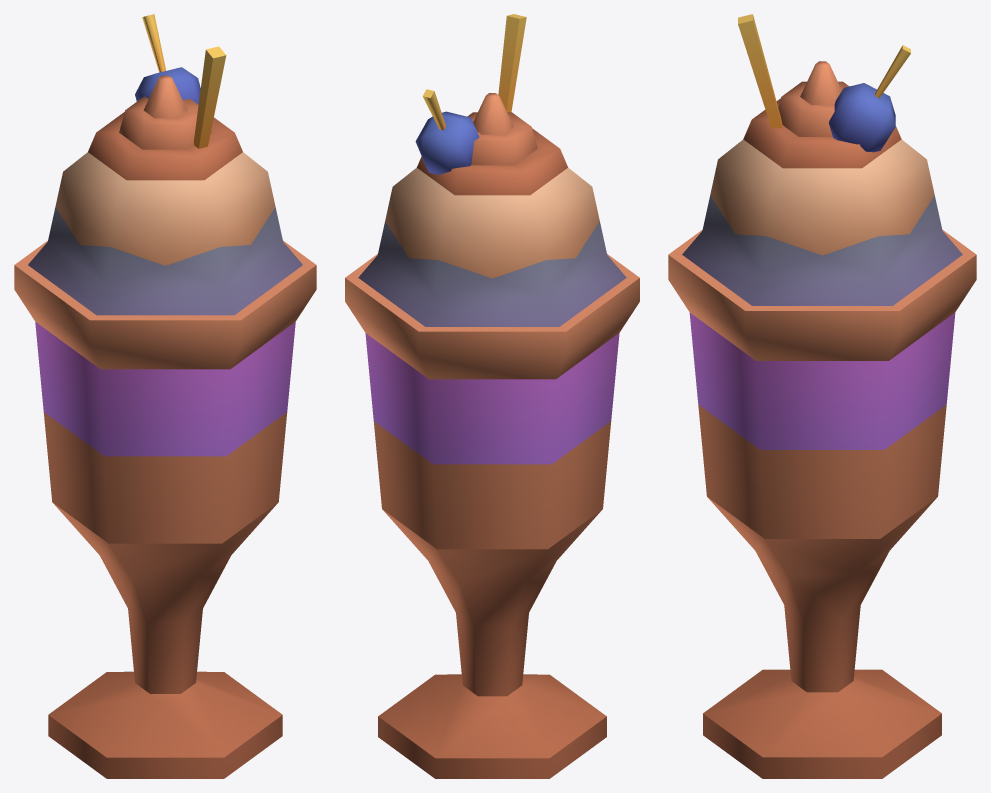
File: sundae.glb
The picture shows the model from 3 angles, left to right: view 1: azimuth 30°, elevation 25°; view 2: azimuth 150°, elevation 25°; view 3: azimuth 270°, elevation 25°; orthographic projection. The views are drawn at different scales.
Parts seen in each view (by area): view 1: sundae, straw, cherry; view 2: sundae, cherry, straw; view 3: sundae, cherry, straw.
Part boxes in pixels (x1,y1,x2,y2): sundae: (14,75,316,778); straw: (194,46,226,148); cherry: (135,14,200,104); sundae: (345,93,639,778); cherry: (415,89,479,174); straw: (498,14,526,112); sundae: (668,61,976,778); cherry: (829,45,910,152); straw: (738,14,782,128).
Size of the model in its own units: 0.2232 by 0.6679 by 0.2577.
Materials: 1 (1 with a texture image).
